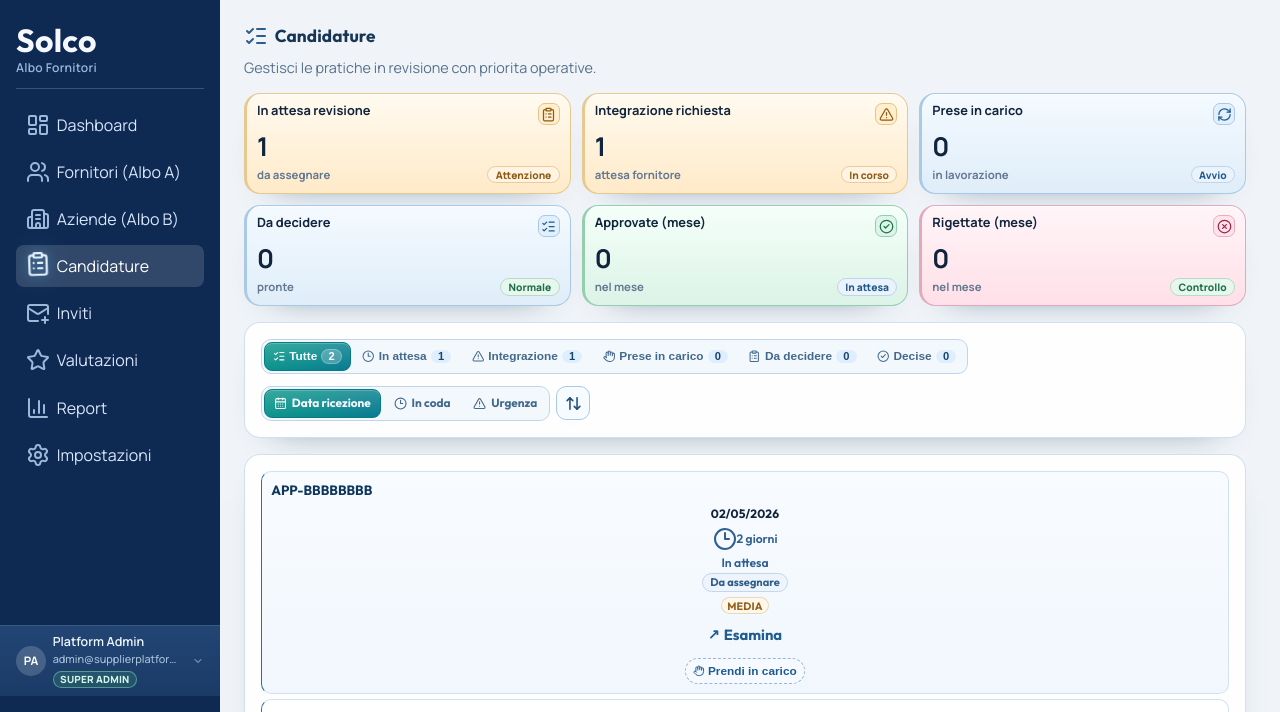
AdminQueuePage › filters rows by integration tab
Click the button "Integrazione 1". click: (527, 356)
box: [463,342,591,371]
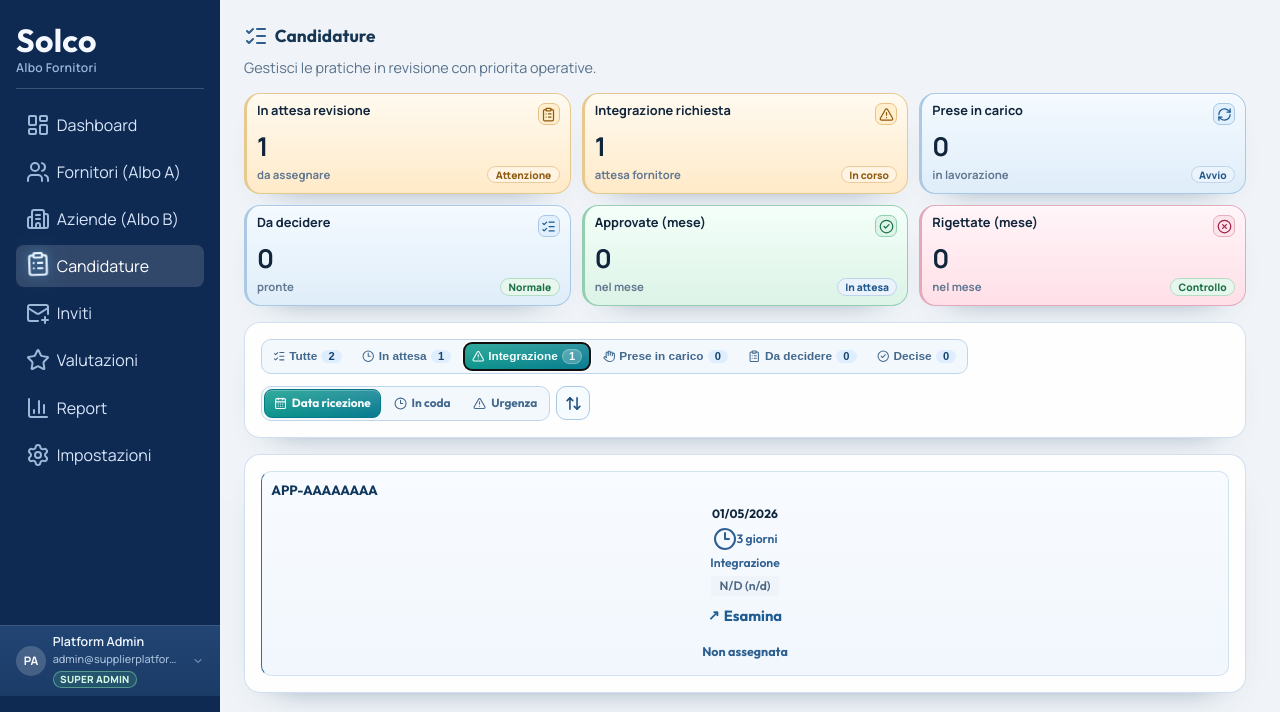
Check: the text "APP-AAAAAAAA" is shown, box [271,482,378,498]
Check: the text "APP-BBBBBBBB" is gone
